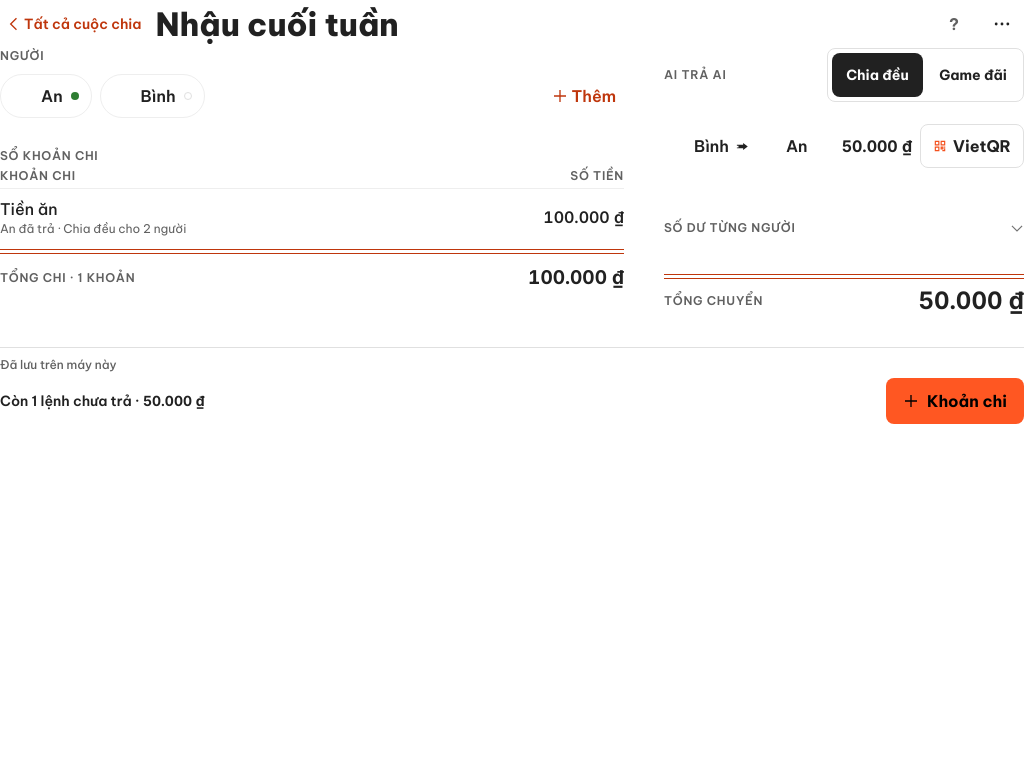
Test case: masking ngân hàng (DATA-03) ở tầng component › Member Sheet của An: số tài khoản xuất hiện trong ô nhập của đúng sheet này
Click the button "An": (46, 96) [0,74,92,118]
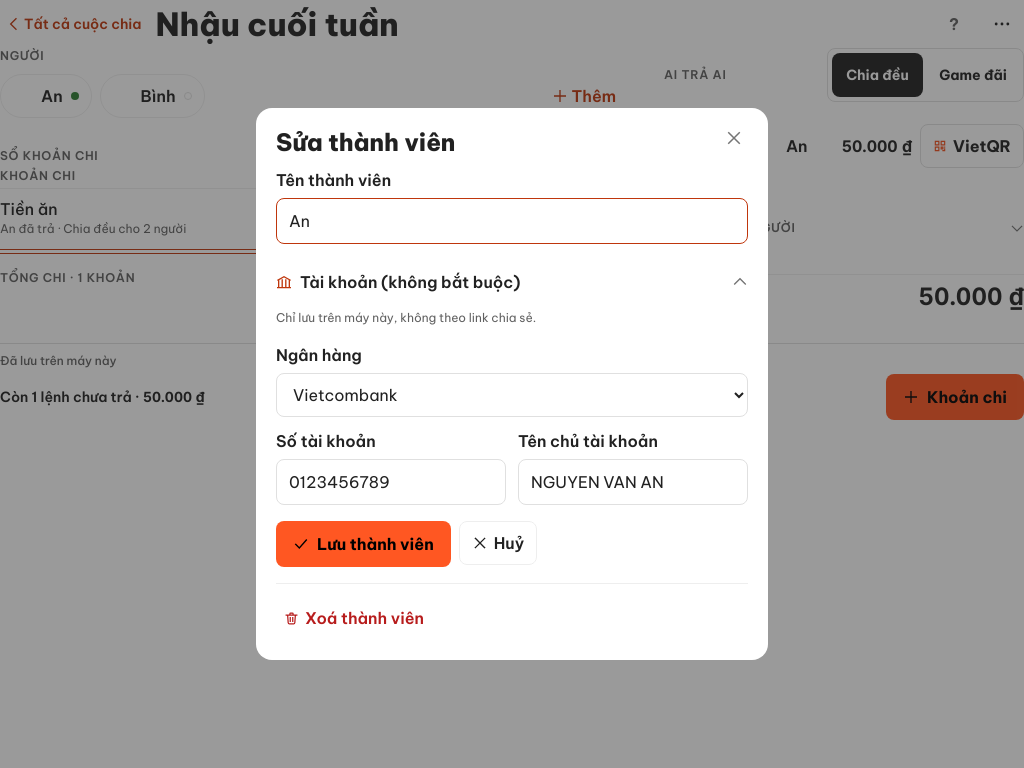
Expected: the field labelled "Số tài khoản" holds "0123456789", [276,459,506,505]
